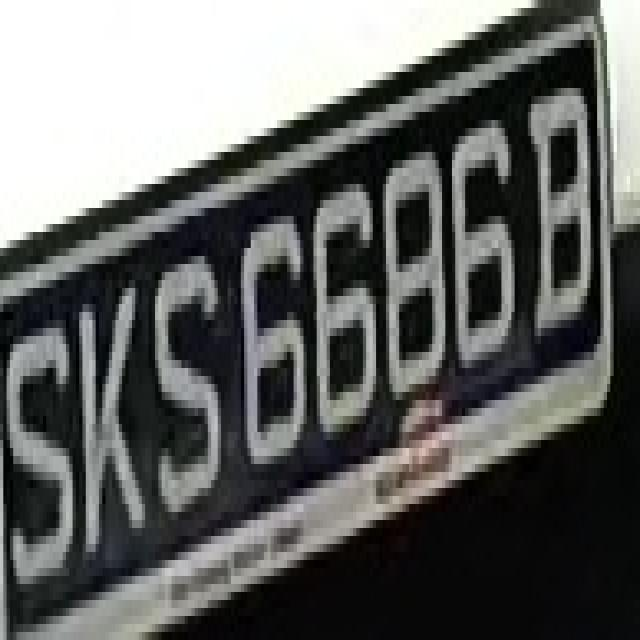6: (304, 168, 389, 464), (231, 184, 307, 472), (442, 104, 515, 384)
8: (376, 112, 449, 392)
B: (525, 56, 597, 352)
K: (62, 256, 152, 584)
S: (10, 288, 79, 624), (145, 232, 218, 544)
